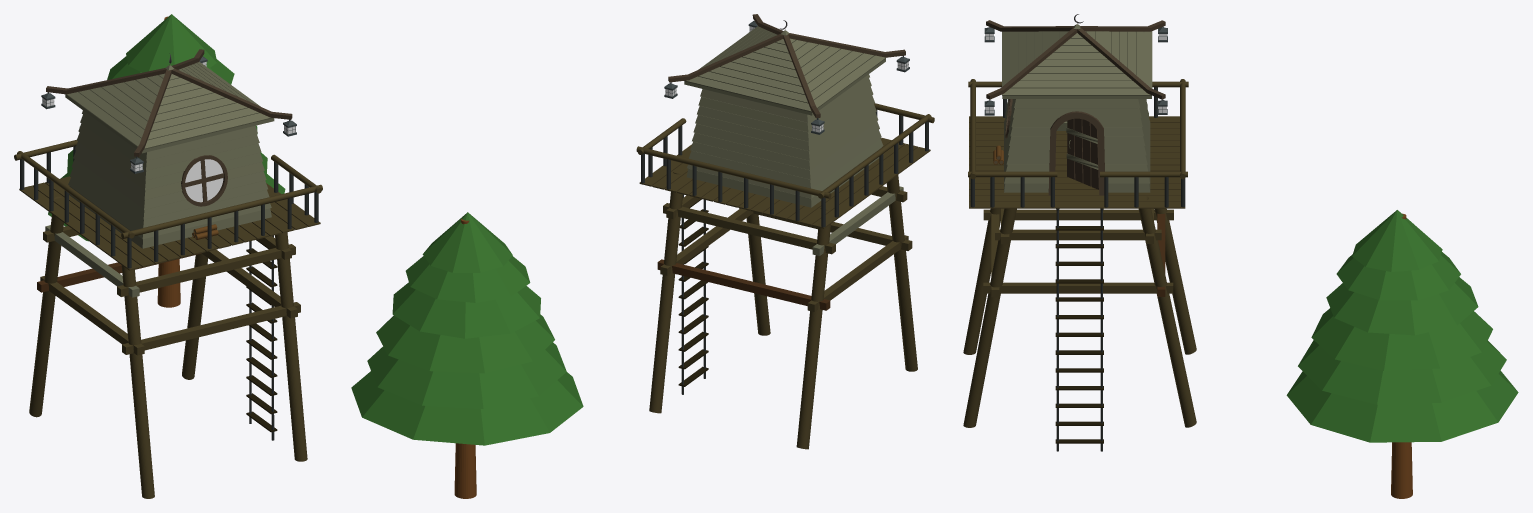
The model's file is casa.fbx.
3 views of the same model, side by side, from view 1: azimuth 30°, elevation 25°; view 2: azimuth 150°, elevation 25°; view 3: azimuth 270°, elevation 25° (orthographic). The views are drawn at different scales.
Visible parts, largest first — view 1: casa, TREE.006; view 2: casa, TREE.006; view 3: casa, TREE.006.
Part boxes in pixels (bbox=[...]): casa: bbox=[14, 49, 322, 498]; TREE.006: bbox=[48, 14, 285, 307]; casa: bbox=[636, 14, 934, 449]; TREE.006: bbox=[351, 212, 583, 498]; casa: bbox=[963, 14, 1196, 451]; TREE.006: bbox=[1286, 210, 1518, 498].
Size of the model in its own units: 1147 by 1231 by 1541.
